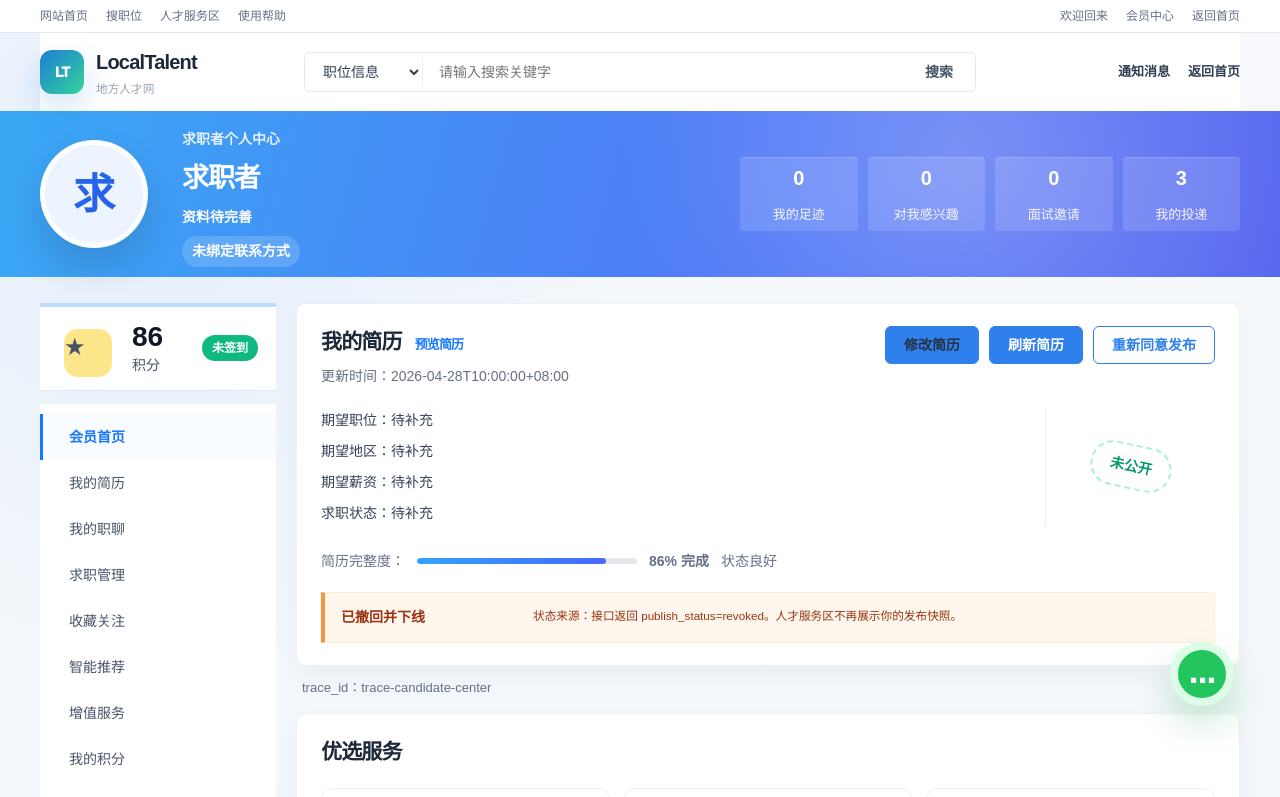
Scenario: CandidateCenter › reloads overview after consent post instead of inferring from post response
Click the button "重新同意发布" at (1154, 345), box [1093,326,1215,364]
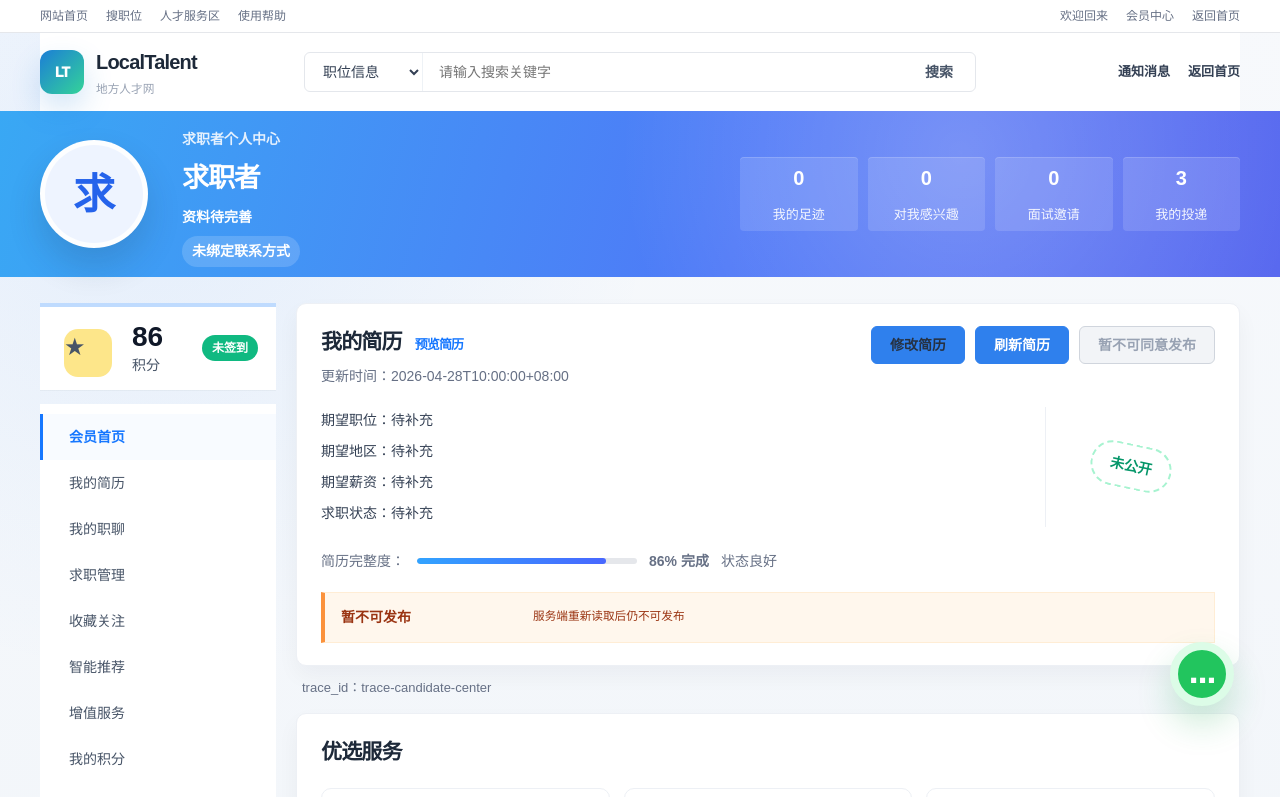
Expected: the text "暂不可发布" is shown, [341,608,411,624]
Expected: the text "服务端重新读取后仍不可发布" is shown, [533,608,684,622]
